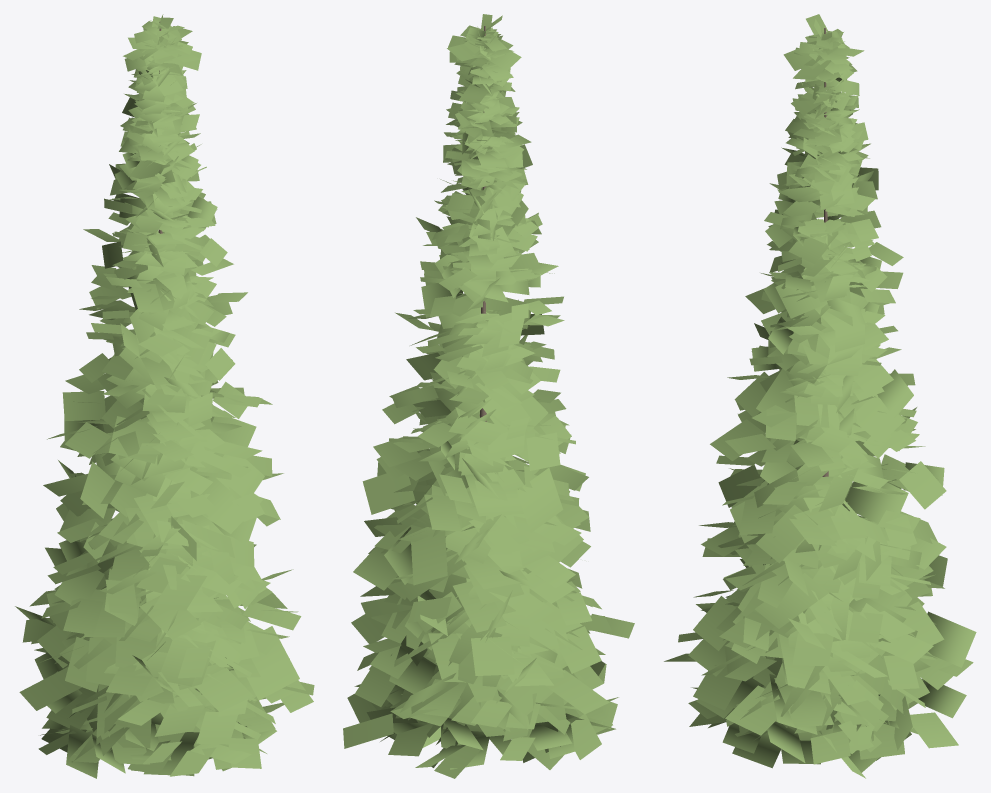
File: Conifer_11_young_lod1.glb
The picture shows the model from 3 angles, left to right: view 1: azimuth 30°, elevation 25°; view 2: azimuth 150°, elevation 25°; view 3: azimuth 270°, elevation 25°; orthographic projection. The views are drawn at different scales.
Visible parts, largest first — view 1: Conifer_11_young_lod1; view 2: Conifer_11_young_lod1; view 3: Conifer_11_young_lod1.
Part boxes in pixels (x1,y1,x2,y2): Conifer_11_young_lod1: (15, 14, 314, 778); Conifer_11_young_lod1: (343, 14, 634, 778); Conifer_11_young_lod1: (664, 14, 976, 778).
Size of the model in its own units: 2.69 by 7.63 by 2.98.
